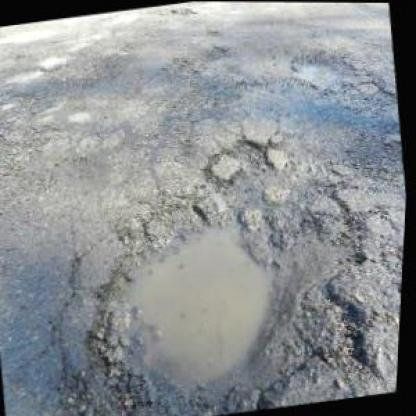pothole: (62, 160, 391, 414), (229, 130, 281, 178)
